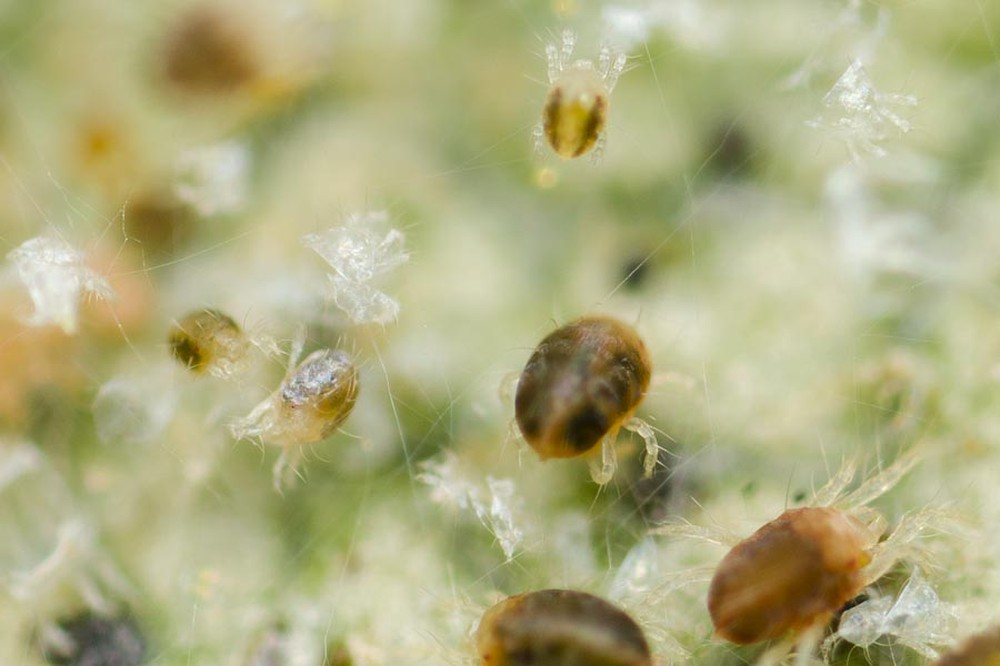Aracnido Rojo: (670, 441, 941, 657), (474, 291, 697, 498), (412, 550, 674, 666), (240, 320, 383, 495), (521, 24, 636, 171), (150, 293, 291, 395)
